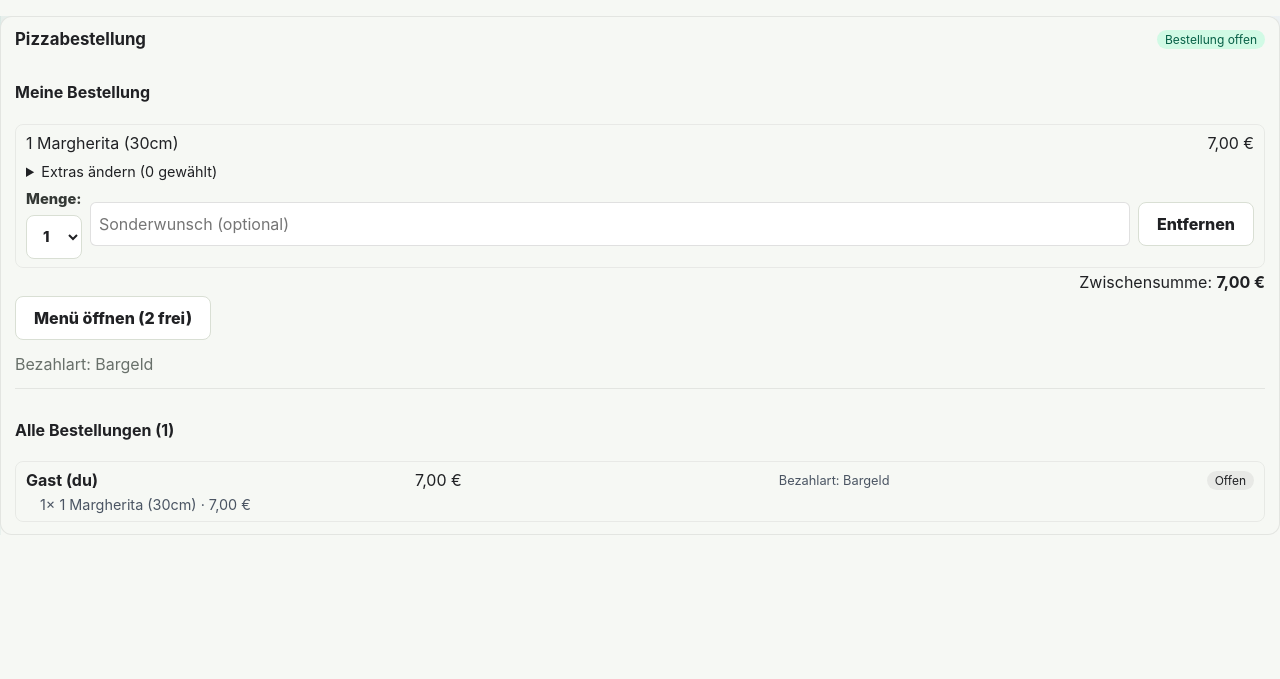
Test: PizzaPanel – Live-Aktualisierung › behält die Extras-Auswahl, wenn der Artikel währenddessen die Kategorie wechselt
Click the button "Menü öffnen (2 frei)" at (113, 318), box 15,296 -> 211,340
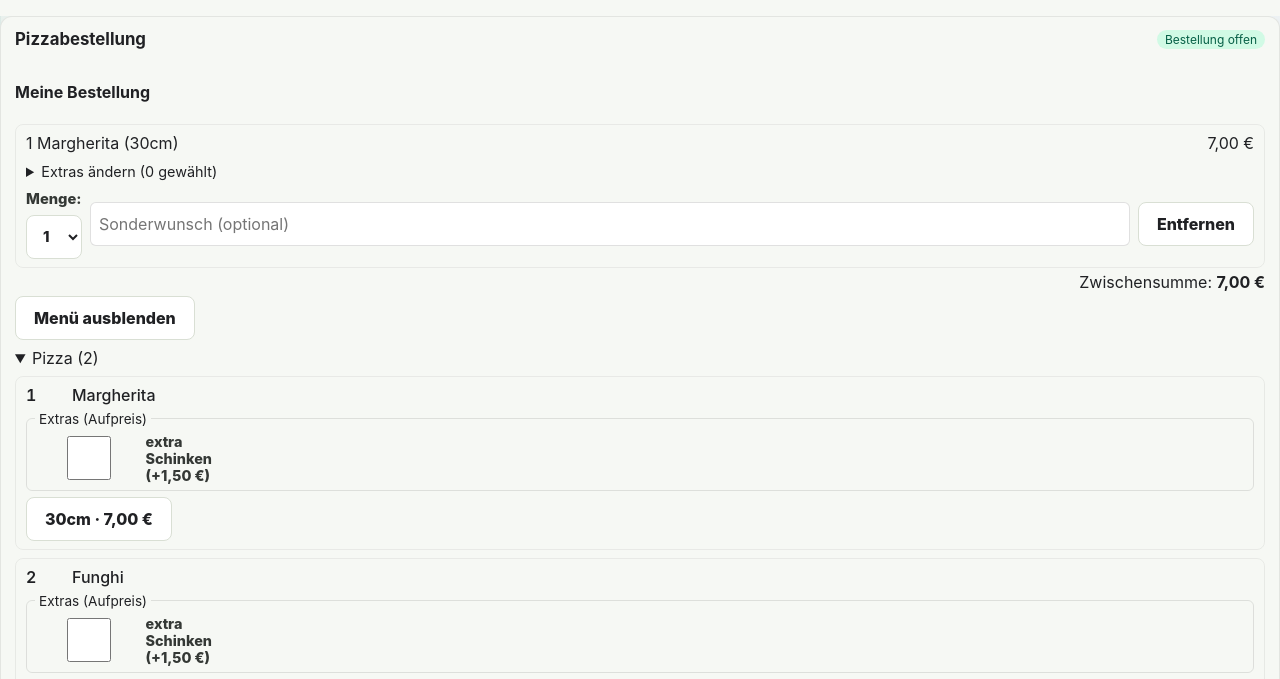
Click the checkbox labelled "extra Schinken (+1,50 €)" below "Funghi" at (89, 640), box 39,618 -> 138,662
Wait 300 ms
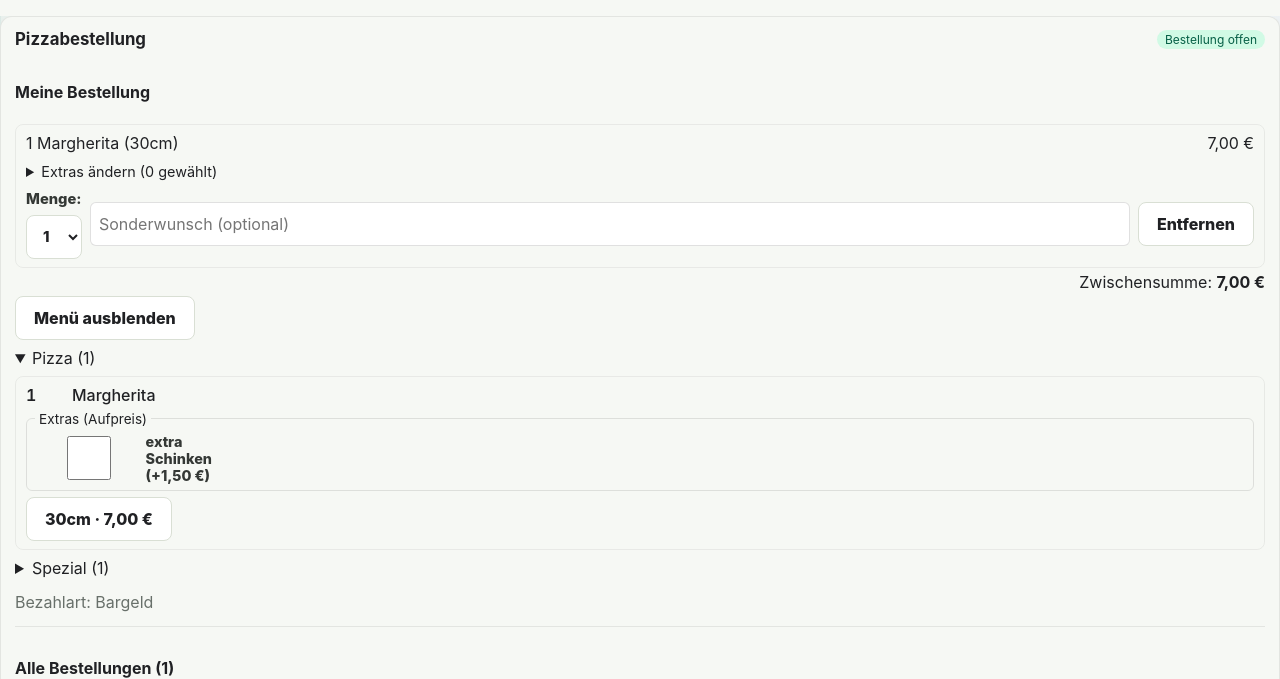
Check: the heading "Spezial (1)" is shown, box 32,558 -> 109,578
